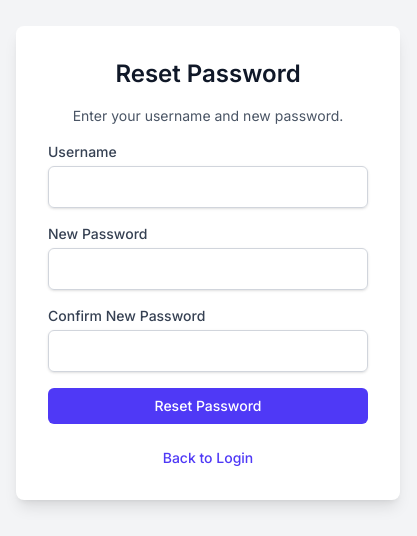
Test case: Account & Auth Pages Suite › ForgotPasswordPage › validates mismatched passwords
The width and height of the screenshot is (417, 536).
Type "alice" into the field labelled "Username".
click(208, 187); type("alice")  # box [48,166,368,208]
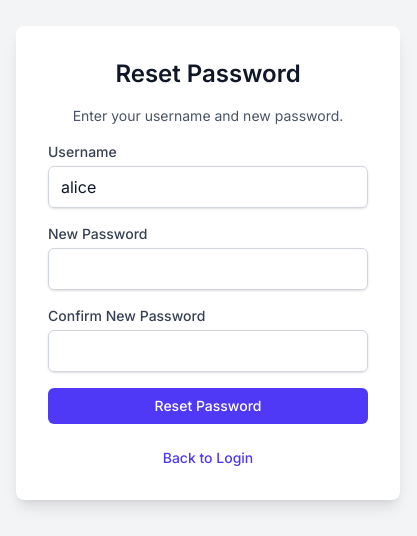
Type "pass1" into the password field labelled "New Password".
click(208, 269); type("pass1")  # box [48,248,368,290]
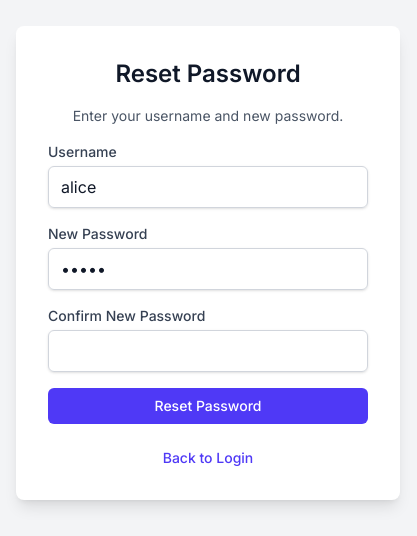
Type "pass2" into the password field labelled "Confirm New Password".
click(208, 351); type("pass2")  # box [48,330,368,372]
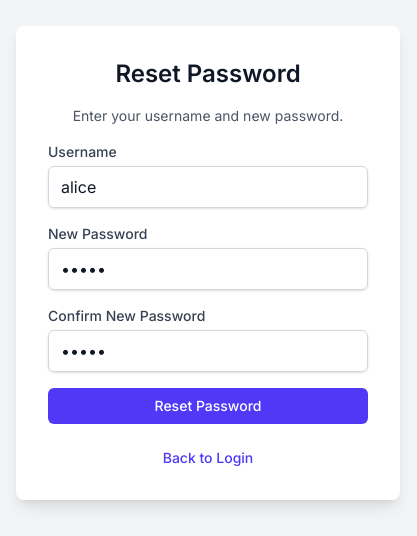
Click the button "Reset Password".
click(208, 406)  # box [48,388,368,424]
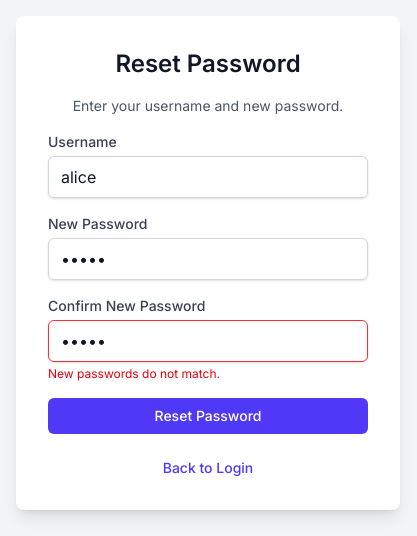
Expected: the text "New passwords do not match." is shown, [48,366,220,381]
